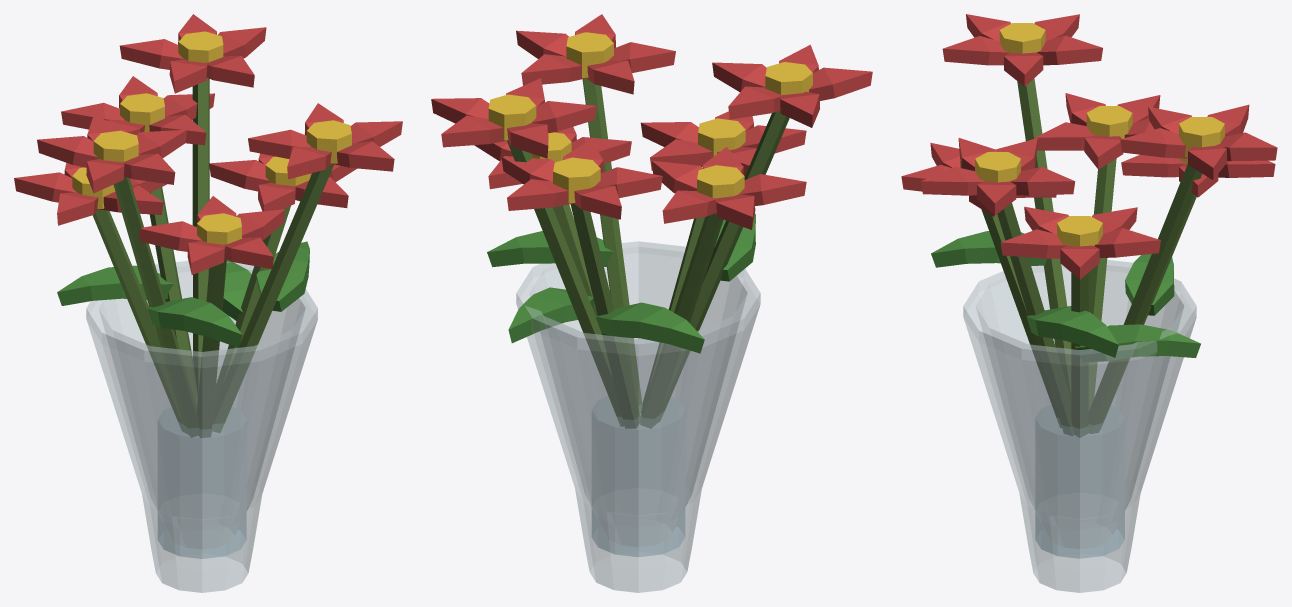
File: SM_LPI_Plant_Flowers_01.fbx
The picture shows the model from 3 angles, left to right: view 1: azimuth 30°, elevation 25°; view 2: azimuth 150°, elevation 25°; view 3: azimuth 270°, elevation 25°; orthographic projection. The views are drawn at different scales.
Parts seen in each view (by area): view 1: SM_LPI_Plant_Flowers_01; view 2: SM_LPI_Plant_Flowers_01; view 3: SM_LPI_Plant_Flowers_01.
Boxes of the visible parts, bbox=[...] form: SM_LPI_Plant_Flowers_01: bbox=[14, 14, 402, 592]; SM_LPI_Plant_Flowers_01: bbox=[431, 14, 872, 592]; SM_LPI_Plant_Flowers_01: bbox=[901, 14, 1277, 592].
Bounding box in the file's own units: 0.3071 × 0.4357 × 0.3062.
